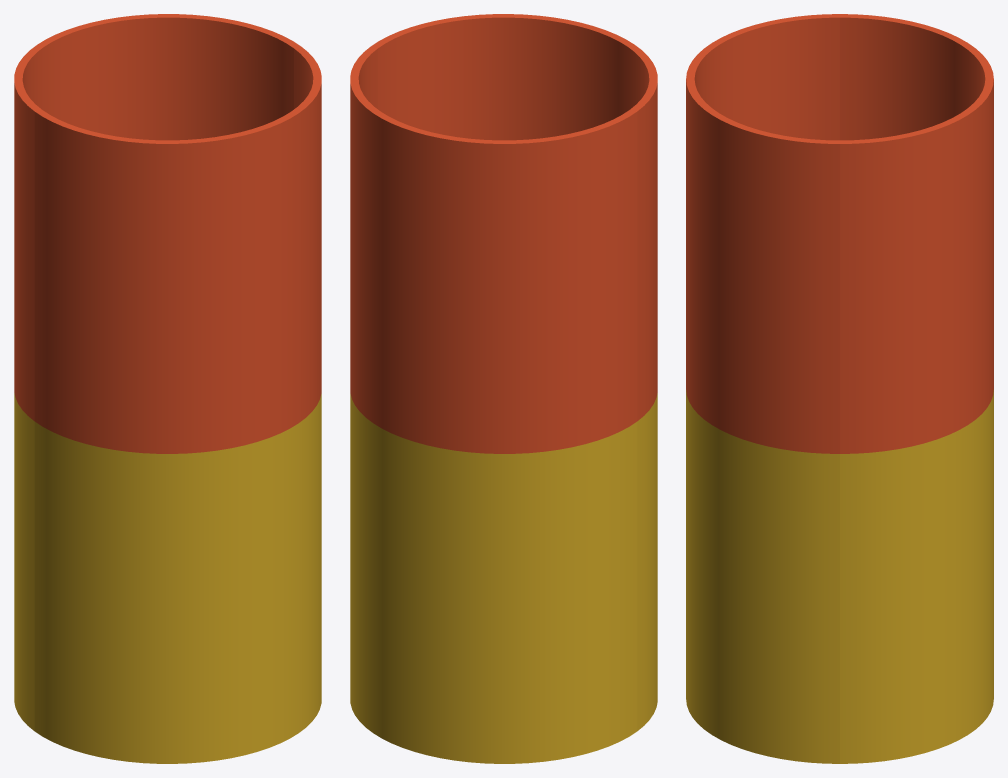
File: digestion_heater_temperature.glb
The picture shows the model from 3 angles, left to right: view 1: azimuth 30°, elevation 25°; view 2: azimuth 150°, elevation 25°; view 3: azimuth 270°, elevation 25°; orthographic projection.
Parts seen in each view (by area): view 1: temperature__front, temperature__back; view 2: temperature__back, temperature__front; view 3: temperature__back, temperature__front.
Boxes of the visible parts, bbox=[...] form: temperature__front: bbox=[34, 46, 321, 763]; temperature__back: bbox=[14, 14, 300, 730]; temperature__back: bbox=[350, 46, 637, 763]; temperature__front: bbox=[371, 14, 657, 730]; temperature__back: bbox=[840, 14, 993, 763]; temperature__front: bbox=[686, 14, 839, 763].
Size of the model in its own units: 0.9 by 2 by 0.9.
